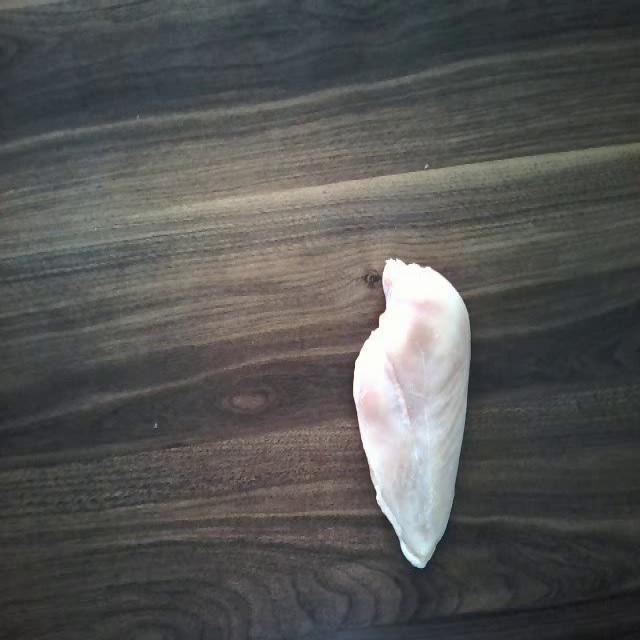breast: (348, 262, 476, 572)
